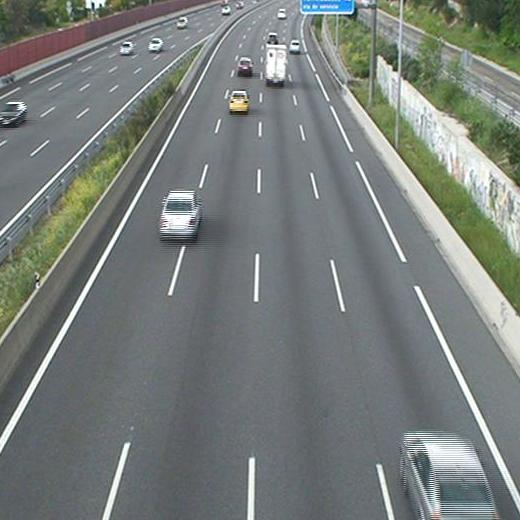car: (398, 430, 498, 520), (158, 188, 203, 242), (228, 90, 249, 115), (237, 56, 252, 75), (288, 39, 300, 52), (267, 32, 278, 44)
small-truck: (265, 43, 288, 87)
